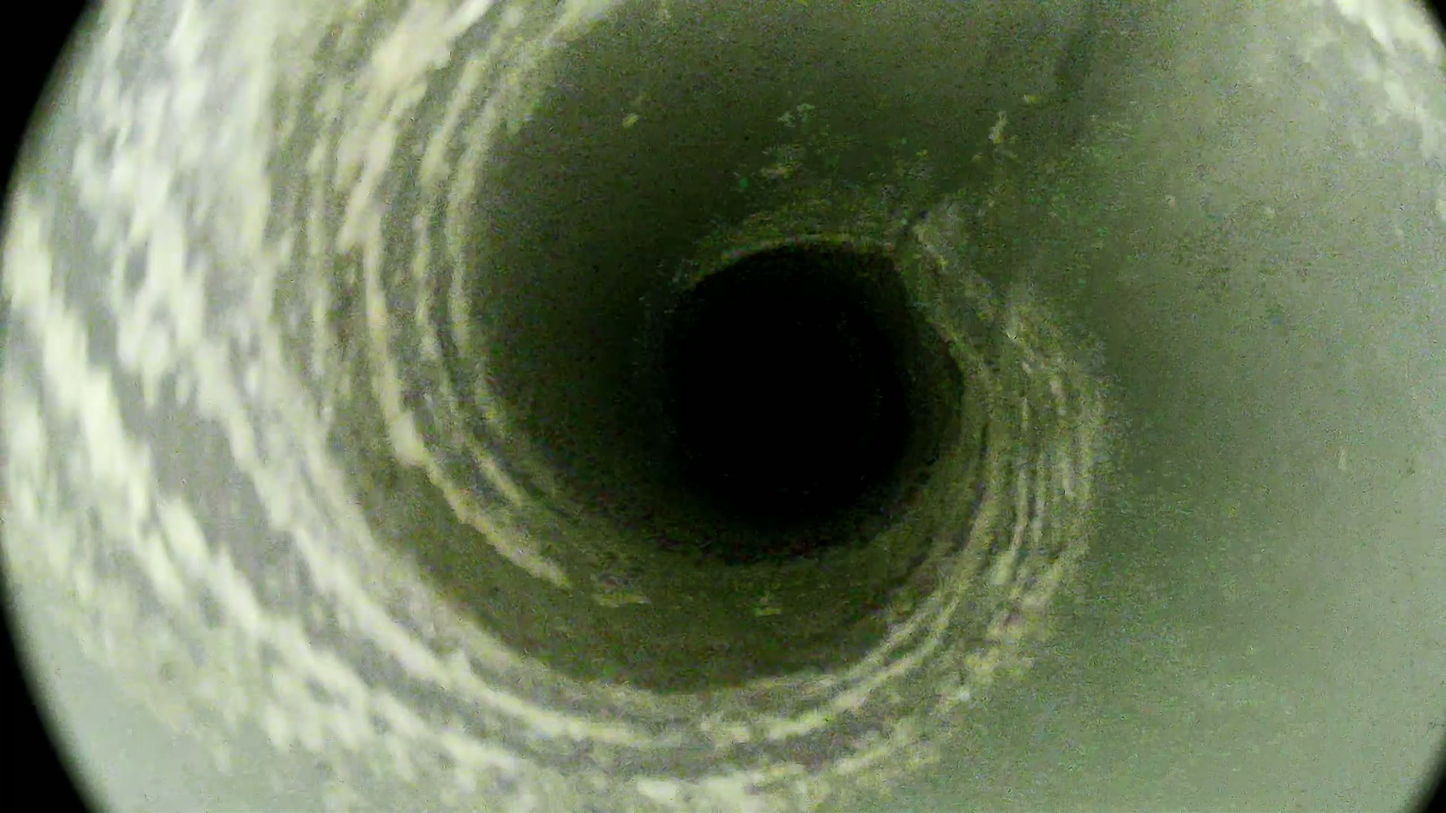hole: (681, 309, 869, 486)
